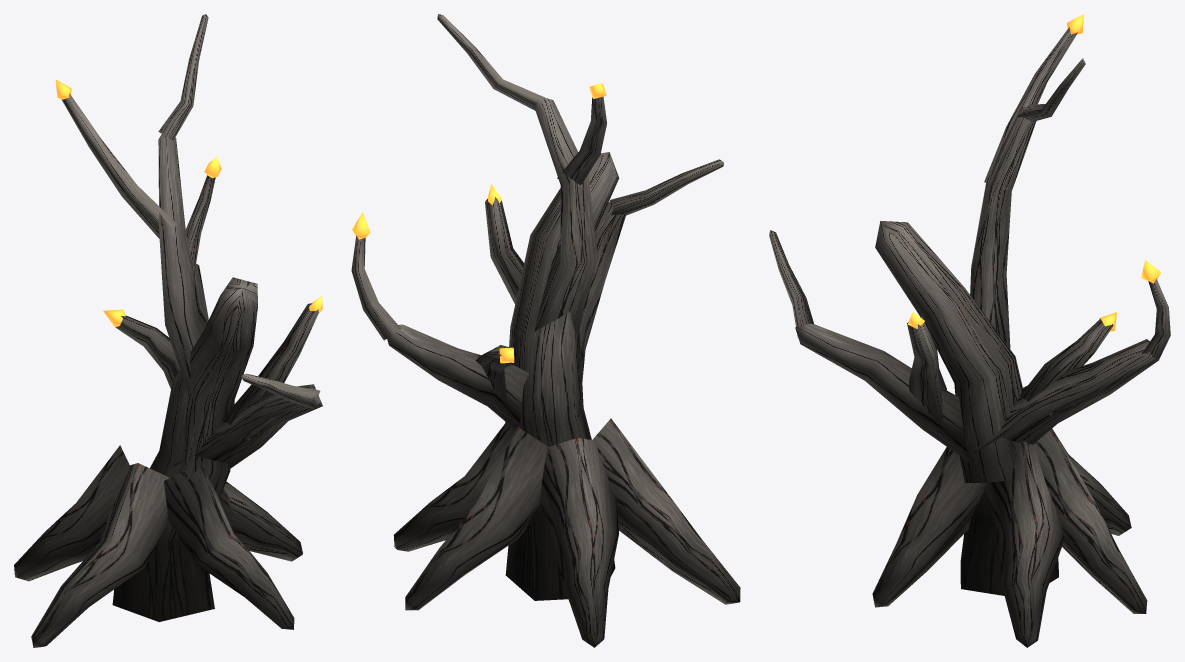
File: tree_dead_b_lod1.glb
3 renders of one model, left to right at view 1: azimuth 30°, elevation 25°; view 2: azimuth 150°, elevation 25°; view 3: azimuth 270°, elevation 25°, orthographic. The views are drawn at different scales.
Visible parts, largest first — view 1: tree_dead_b_lod1; view 2: tree_dead_b_lod1; view 3: tree_dead_b_lod1.
Part boxes in pixels (box(x1,y1,x2,y2)): tree_dead_b_lod1: box(14, 14, 322, 647); tree_dead_b_lod1: box(351, 14, 740, 647); tree_dead_b_lod1: box(769, 14, 1170, 647).
Bounding box in the file's own units: 1.37 × 2.39 × 1.56.
2 materials, 1 textured.
